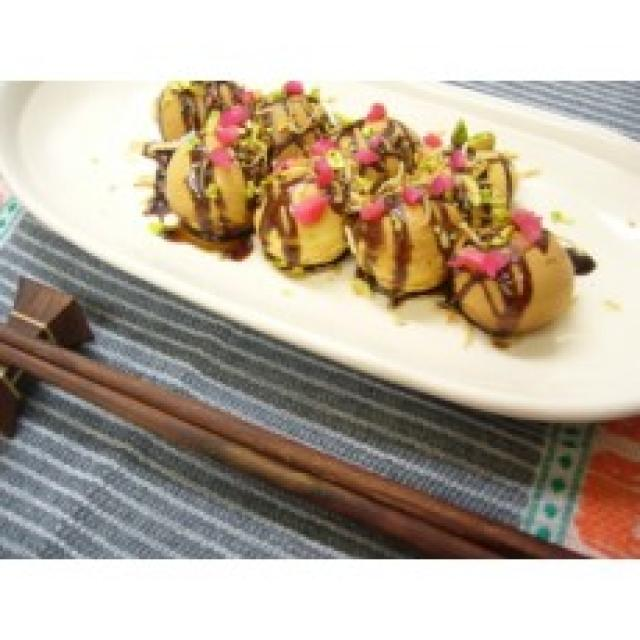炸货点心: (134, 80, 576, 340)
